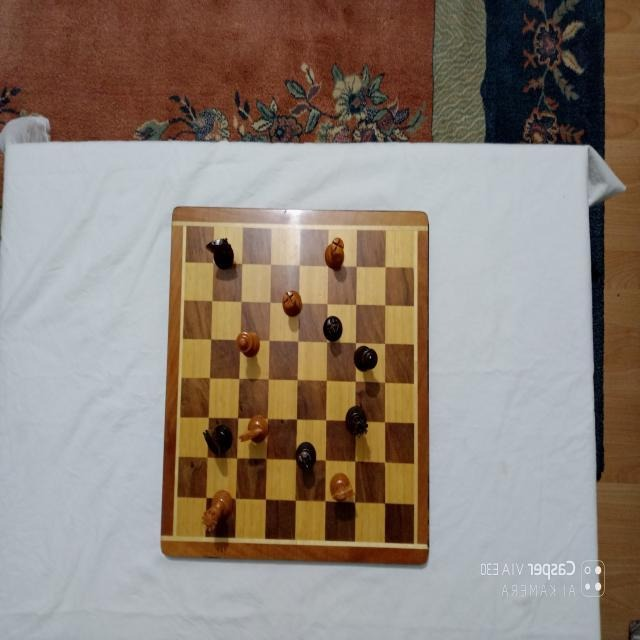black-king: (353, 344, 379, 371)
black-knight: (203, 423, 233, 456), (206, 237, 234, 271)
black-queen: (345, 405, 369, 439)
black-rook: (295, 441, 316, 471), (323, 315, 343, 341)
white-king: (236, 330, 260, 358)
white-knight: (239, 414, 269, 444), (329, 471, 355, 501)
white-queen: (200, 488, 233, 531)
white-rook: (324, 237, 344, 269), (282, 289, 302, 317)
